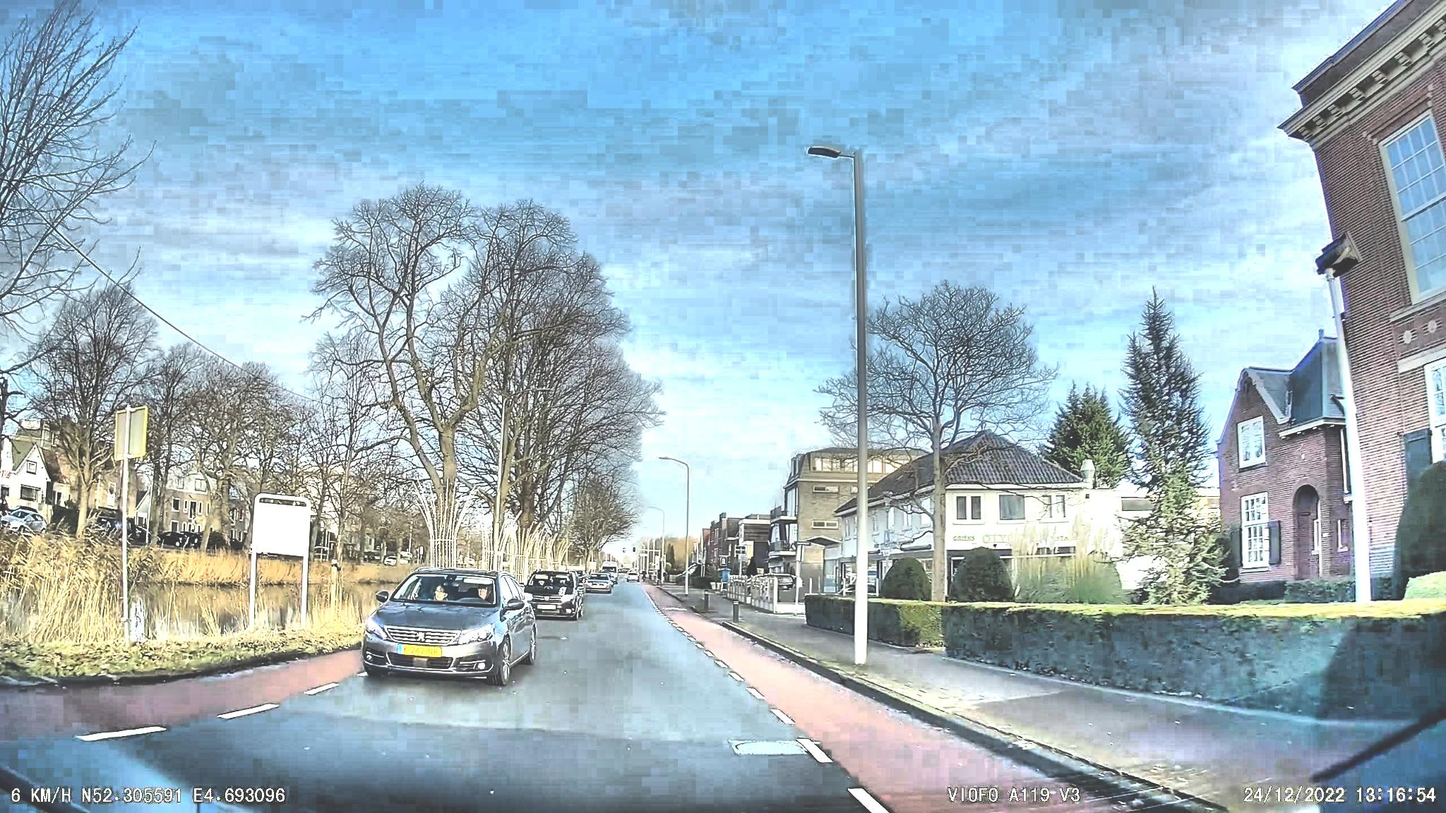Roads: (0, 585, 1069, 813)
